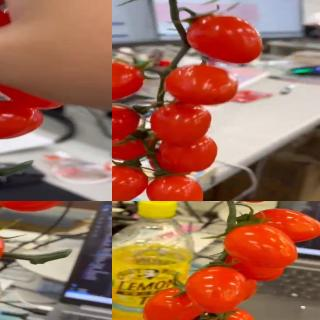tomato: (189, 13, 267, 64), (185, 265, 256, 316), (223, 221, 300, 267), (166, 65, 240, 106), (245, 208, 320, 244), (151, 102, 212, 146), (156, 134, 218, 174), (223, 248, 287, 282), (143, 286, 206, 320), (0, 99, 46, 139), (147, 172, 204, 201), (112, 125, 157, 160), (112, 61, 145, 103), (112, 165, 148, 201), (112, 103, 141, 142), (0, 201, 76, 212), (200, 308, 256, 320)
